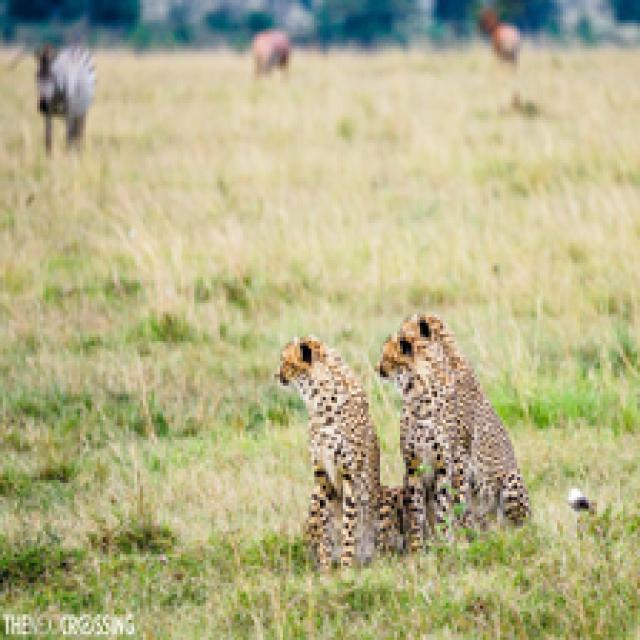cheetah: (239, 313, 397, 564), (402, 302, 558, 521), (350, 328, 490, 552)
